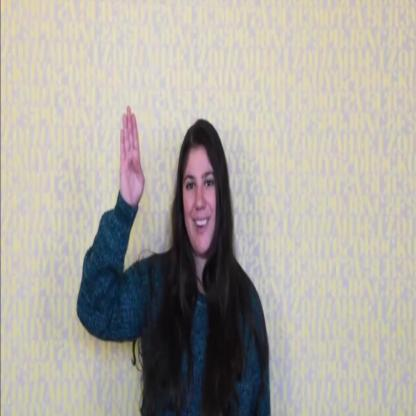Hello: (104, 75, 267, 349)
